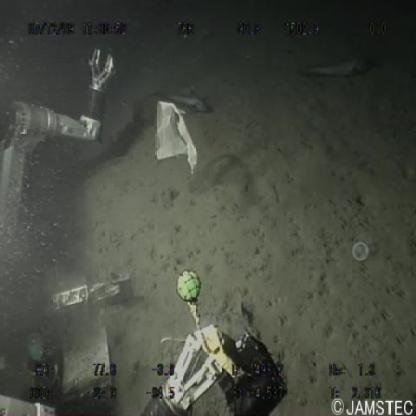Bio: (295, 54, 376, 79)
Rov: (1, 39, 293, 416)
Rác: (149, 100, 202, 174), (349, 239, 370, 268)
